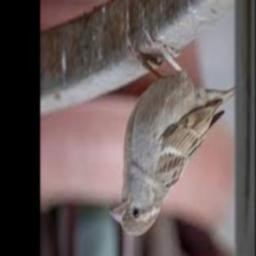Sparrow: (108, 30, 236, 237)
